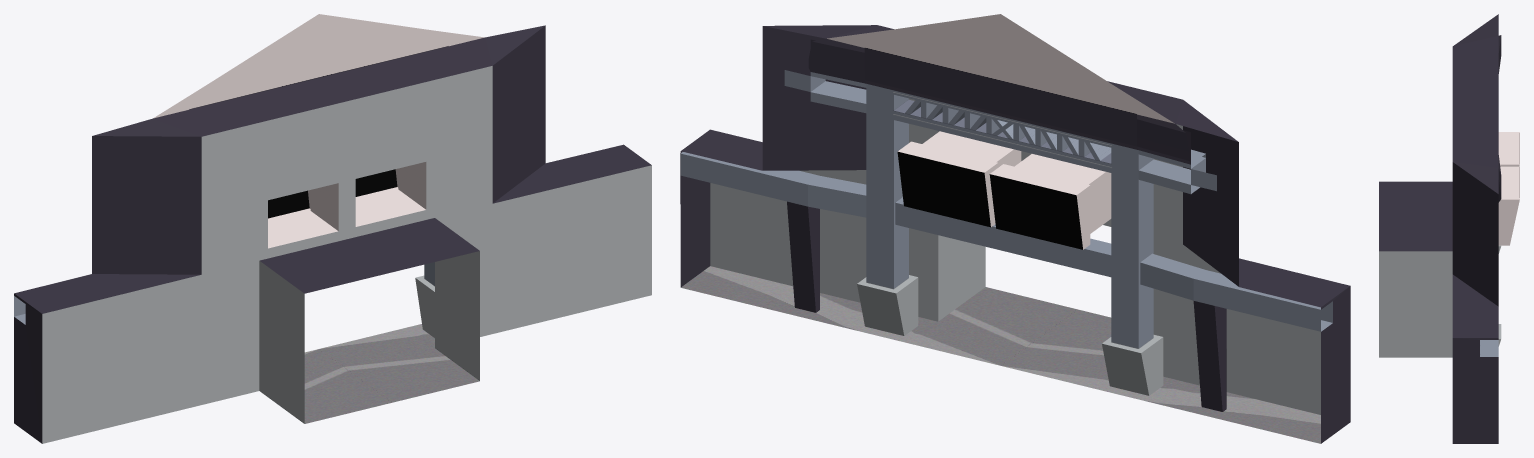
File: Penn Station Room1Exit.fbx
The picture shows the model from 3 angles, left to right: view 1: azimuth 30°, elevation 25°; view 2: azimuth 150°, elevation 25°; view 3: azimuth 270°, elevation 25°; orthographic projection. The views are drawn at different scales.
Visible parts, largest first — view 1: Room1Exit; view 2: Room1Exit; view 3: Room1Exit.
Part boxes in pixels (bbox=[...]): Room1Exit: bbox=[14, 14, 651, 443]; Room1Exit: bbox=[680, 14, 1350, 443]; Room1Exit: bbox=[1379, 14, 1519, 443].
Size of the model in its own units: 3539 by 1857 by 869.
Materials: 1 (1 with a texture image).
